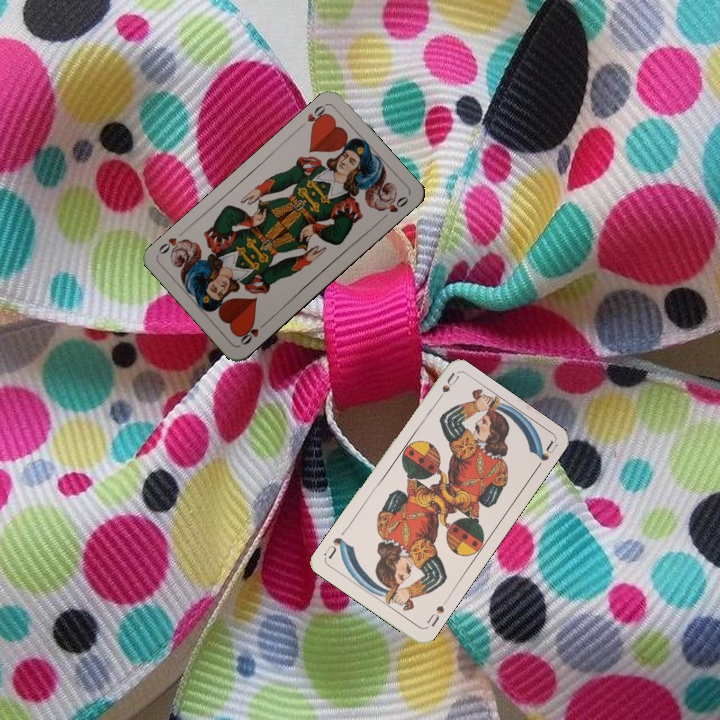HO: (295, 100, 331, 132), (236, 317, 269, 348)
SU: (430, 370, 461, 407), (422, 595, 450, 631)
